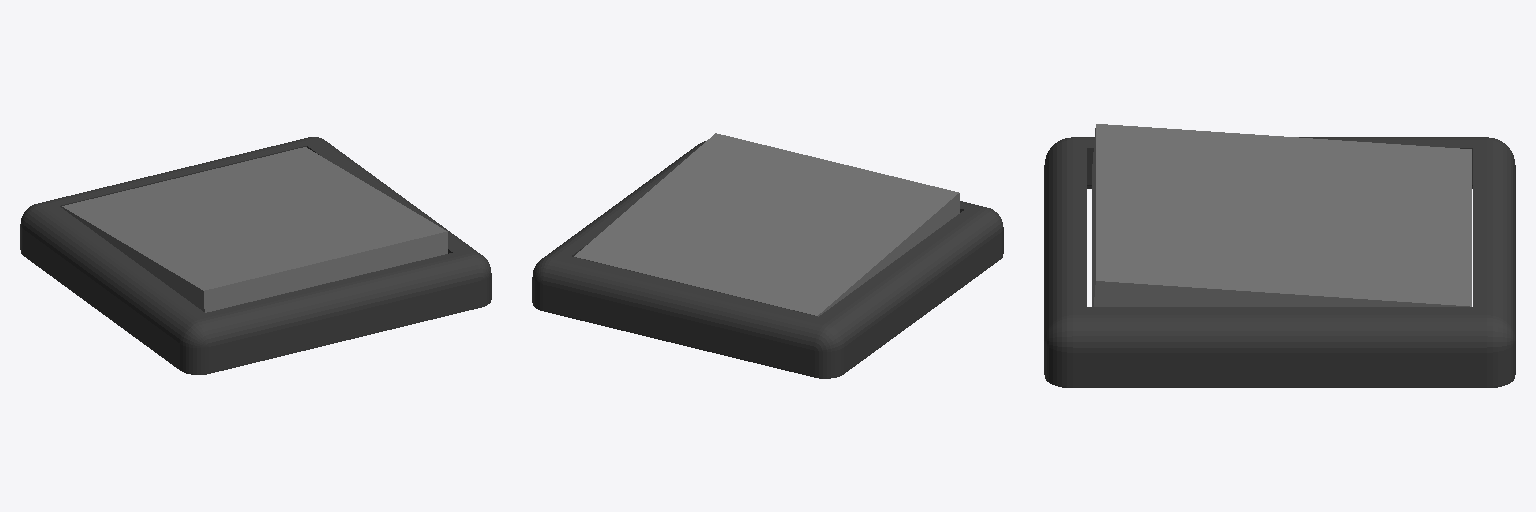
The robot description file, URDF, robot "on_switch.urdf":
<?xml version="1.0" ?>

<robot name="on_switch.urdf">
  <material name="Dark Grey">
    <color rgba=".3 .3 .3 1"/>
  </material>
  <material name="Light Grey">
    <color rgba=".5 .5 .5 1"/>
  </material>
  <link name="case_link">
    <!-- <contact>
      <lateral_friction value="1.0"/>
    </contact> -->
    <visual>
      <origin xyz="0 0 0" rpy = "0 0 0"/>
      <geometry>
			  <mesh filename="case.dae"/>
      </geometry>
      <material name="Dark Grey"/>
    </visual>
    <collision>
      <origin xyz="0 0 0" rpy = "0 0 0"/>
      <geometry>
			  <mesh filename="case.dae"/>
      </geometry>
    </collision>
    
  </link>
  <link name="off_button_link">
    <visual>
      <origin xyz="0 0 0" rpy="0 0 0"/>
      <geometry>
			  <mesh filename="off_button.dae"/>
      </geometry>
      <material name="Light Grey"/>
    </visual>
    <collision>
      <origin xyz="0 0 0" rpy="0 0 0"/>
      <geometry>
			  <mesh filename="off_button.dae"/>
      </geometry>
    </collision>
  </link>
  <joint name="fixed" type="fixed">
      <parent link="case_link"/>
      <child link="off_button_link"/>
  </joint>
</robot>

--- What the picture shows (computed from the rendered views, not written in the file) ---
3 views of the same robot in one strip: view 1: azimuth 30°, elevation 25°; view 2: azimuth 150°, elevation 25°; view 3: azimuth 270°, elevation 25° (orthographic).
Robot: on_switch.urdf — 2 links, 1 joints (1 fixed); root link case_link; default pose: every joint at zero.
Links seen in each view (by area): view 1: off_button_link, case_link; view 2: off_button_link, case_link; view 3: off_button_link, case_link.
Boxes of the visible links, x1,y1,x2,y2 form: off_button_link: (62, 147, 447, 312); case_link: (20, 137, 491, 374); off_button_link: (574, 133, 959, 316); case_link: (532, 141, 1003, 378); off_button_link: (1092, 124, 1471, 306); case_link: (1044, 137, 1515, 387).
Size in the robot's own frame: 200 by 200 by 40.58 metres.
Meshes: 2 distinct files referenced, 2 mesh visuals loaded (2 Collada DAE).